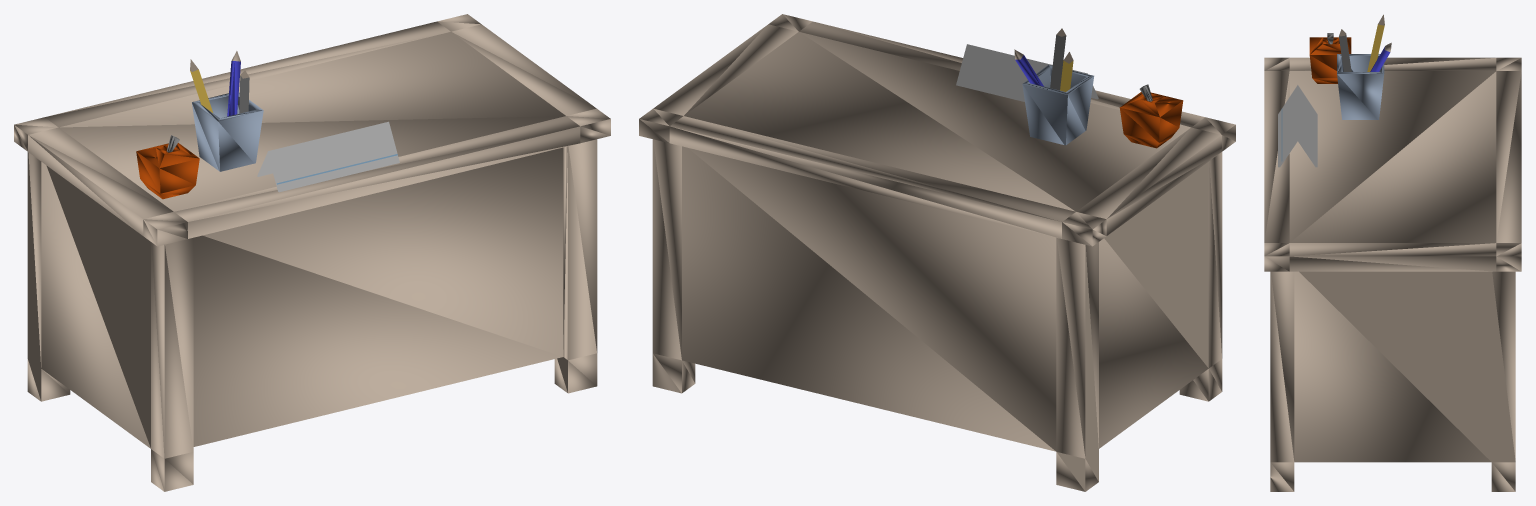
The model's file is classroom_teacherdesk_v3.fbx.
3 views of the same model, side by side, from view 1: azimuth 30°, elevation 25°; view 2: azimuth 150°, elevation 25°; view 3: azimuth 270°, elevation 25° (orthographic). The views are drawn at different scales.
Parts seen in each view (by area): view 1: pCube14; view 2: pCube14; view 3: pCube14.
Part boxes in pixels (left/top/right/bottom): pCube14: left=14, top=14, right=610, bottom=491; pCube14: left=639, top=14, right=1235, bottom=491; pCube14: left=1264, top=14, right=1521, bottom=491.
Size of the model in its own units: 7.58 by 5.83 by 4.15.
